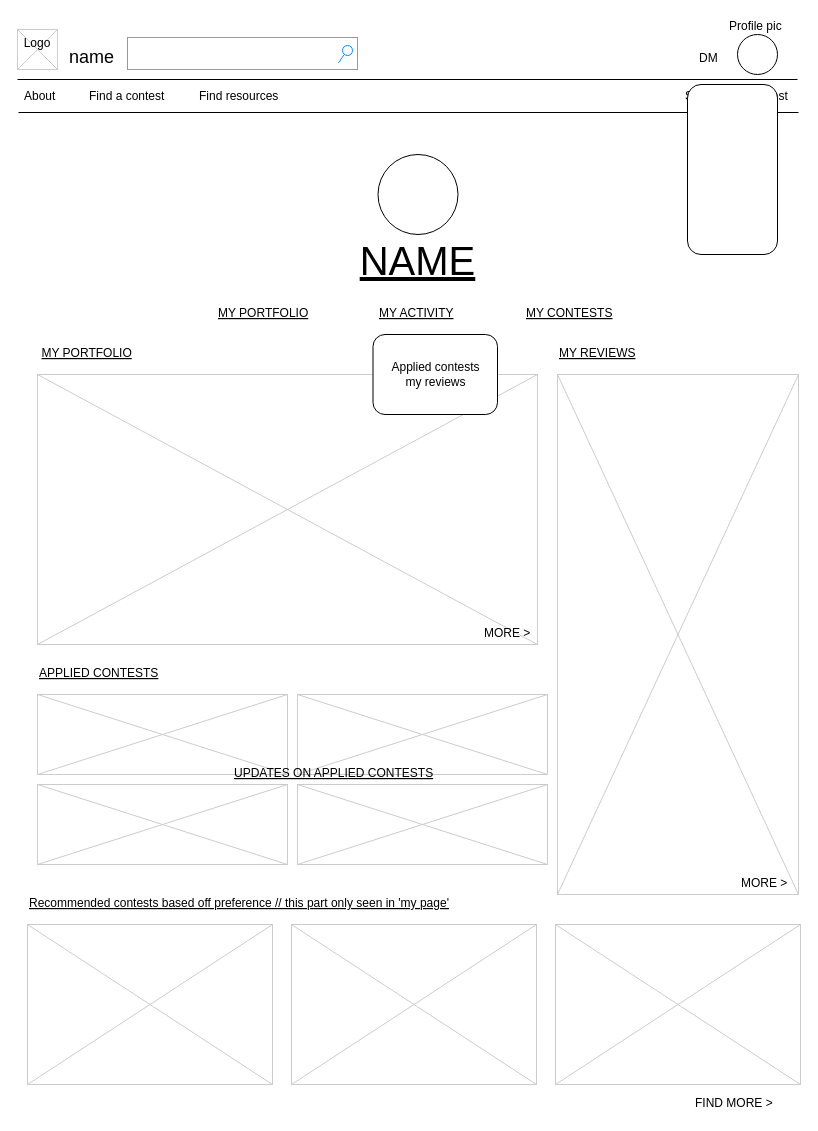
The diagram is 818 pixels wide and 1131 high, and some of its shapes have lost their labels. The centre of each missing label's shape, as x and y in pixels:
Dropdown menu: [732,169]
Search for a contest: [242,53]
